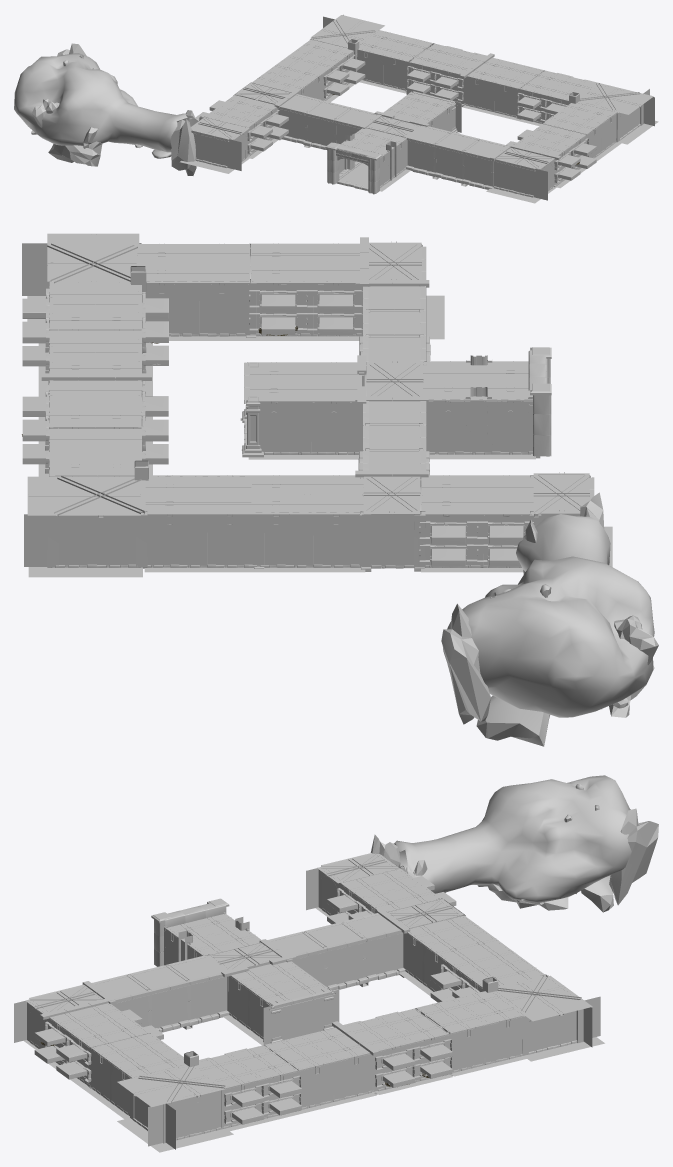
File: Interior_Hallway E.fbx
3 views of the same model, one above another, from view 1: azimuth 30°, elevation 25°; view 2: azimuth 150°, elevation 25°; view 3: azimuth 270°, elevation 25° (orthographic). The views are drawn at different scales.
Visible parts, largest first — view 1: CaveUnitCATAM, PlaneQuad_15, PlaneQuad_17, PlaneQuad_13, PlaneQuad_11, PlaneQuad_22, PlaneQuad_18, PlaneQuad_14, PlaneQuad_16, PlaneQuad_12, PlaneQuad_6, PlaneQuad_20 (+47 smaller); view 2: CaveUnitCATAM, PlaneQuad_22, PlaneQuad_11, PlaneQuad_14, PlaneQuad_15, PlaneQuad_16, PlaneQuad_20, PlaneQuad_6, PlaneQuad_12, PlaneQuad_19, PlaneQuad_17, PlaneQuad_13 (+44 smaller); view 3: CaveUnitCATAM, PlaneQuad_15, PlaneQuad_22, PlaneQuad_11, PlaneQuad_16, PlaneQuad_13, PlaneQuad_20, PlaneQuad_14, PlaneQuad_17, PlaneQuad_18, PlaneQuad_6, PlaneQuad_19 (+43 smaller).
Boxes of the visible parts, box(x1,y1,x2,y2) form: CaveUnitCATAM: box(14, 53, 194, 152); PlaneQuad_15: box(357, 30, 432, 61); PlaneQuad_17: box(543, 102, 616, 134); PlaneQuad_13: box(467, 57, 543, 88); PlaneQuad_11: box(251, 60, 325, 92); PlaneQuad_22: box(204, 95, 276, 127); PlaneQuad_18: box(578, 83, 653, 114); PlaneQuad_14: box(410, 43, 485, 74); PlaneQuad_16: box(520, 70, 598, 100); PlaneQuad_12: box(282, 39, 353, 71); PlaneQuad_6: box(383, 92, 454, 123); PlaneQuad_20: box(514, 124, 585, 155); CaveUnitCATAM: box(443, 514, 654, 717); PlaneQuad_22: box(421, 475, 533, 514); PlaneQuad_11: box(251, 475, 363, 514); PlaneQuad_14: box(49, 380, 141, 427); PlaneQuad_15: box(49, 428, 141, 476); PlaneQuad_16: box(49, 282, 141, 329); PlaneQuad_20: box(251, 243, 359, 282); PlaneQuad_6: box(250, 362, 361, 401); PlaneQuad_12: box(145, 475, 251, 514); PlaneQuad_19: box(27, 476, 140, 515); PlaneQuad_17: box(139, 244, 249, 282); PlaneQuad_13: box(49, 330, 141, 377); CaveUnitCATAM: box(393, 775, 631, 902); PlaneQuad_15: box(417, 991, 523, 1033); PlaneQuad_22: box(341, 868, 442, 912); PlaneQuad_11: box(407, 915, 505, 960); PlaneQuad_16: box(194, 1045, 297, 1088); PlaneQuad_13: box(265, 1027, 369, 1070); PlaneQuad_20: box(50, 1003, 149, 1047); PlaneQuad_14: box(344, 1008, 448, 1050); PlaneQuad_17: box(91, 1033, 186, 1077); PlaneQuad_18: box(117, 1065, 224, 1107); PlaneQuad_6: box(231, 961, 329, 1005); PlaneQuad_19: box(493, 975, 592, 1021).
Size of what is drawn, in the model's own units: 11072 by 1788 by 9298.
